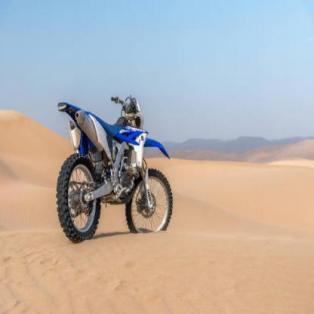Motocicleta: (52, 81, 177, 244)
